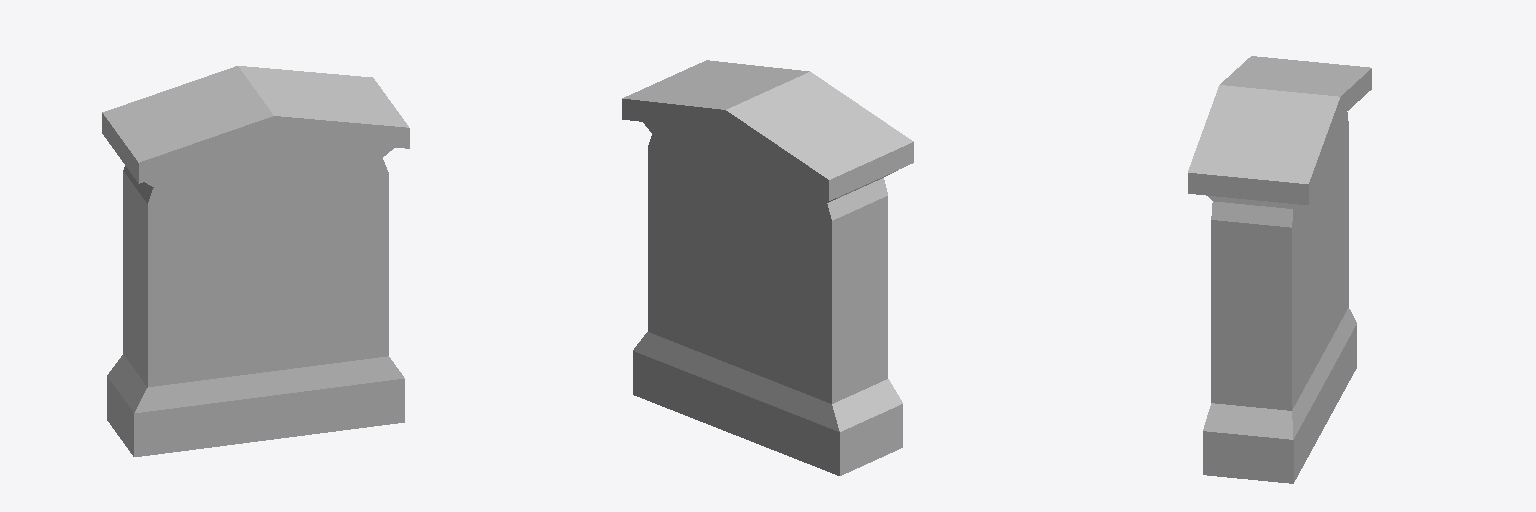
Rendered from Gravestone_Roof_1.obj.
3 views of the same model, side by side, from view 1: azimuth 30°, elevation 25°; view 2: azimuth 150°, elevation 25°; view 3: azimuth 270°, elevation 25° (orthographic).
Visible parts, largest first — view 1: Gravestone_Roof_1; view 2: Gravestone_Roof_1; view 3: Gravestone_Roof_1.
Part boxes in pixels (bbox=[...]): Gravestone_Roof_1: bbox=[102, 66, 409, 456]; Gravestone_Roof_1: bbox=[622, 60, 913, 475]; Gravestone_Roof_1: bbox=[1188, 56, 1371, 483].
Size of the model in its own units: 0.5861 by 0.7028 by 0.3564.